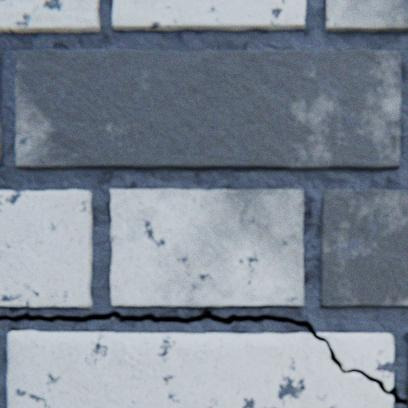brick: (16, 51, 400, 170), (111, 189, 303, 306), (0, 190, 92, 307), (320, 190, 407, 306), (113, 0, 305, 32), (0, 0, 100, 34), (326, 0, 407, 33), (0, 51, 3, 167), (406, 376, 407, 398)
broken_brick: (8, 330, 392, 407), (317, 333, 393, 389)
crack: (0, 309, 407, 407)
